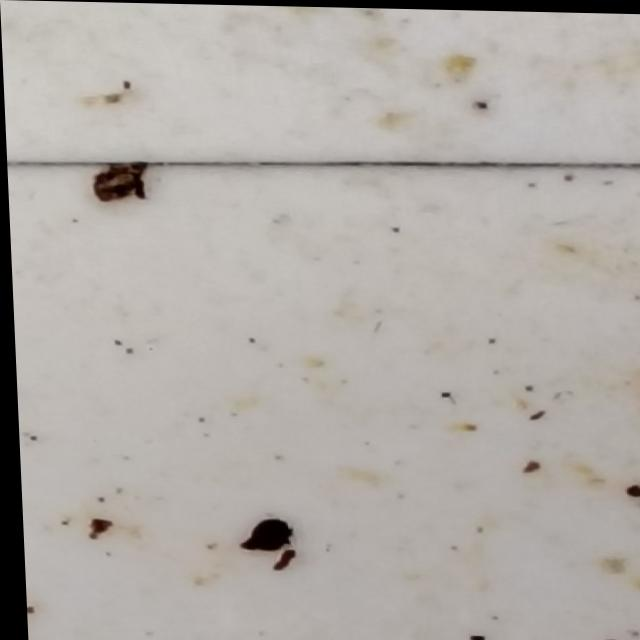varroa: (247, 517, 287, 552)
